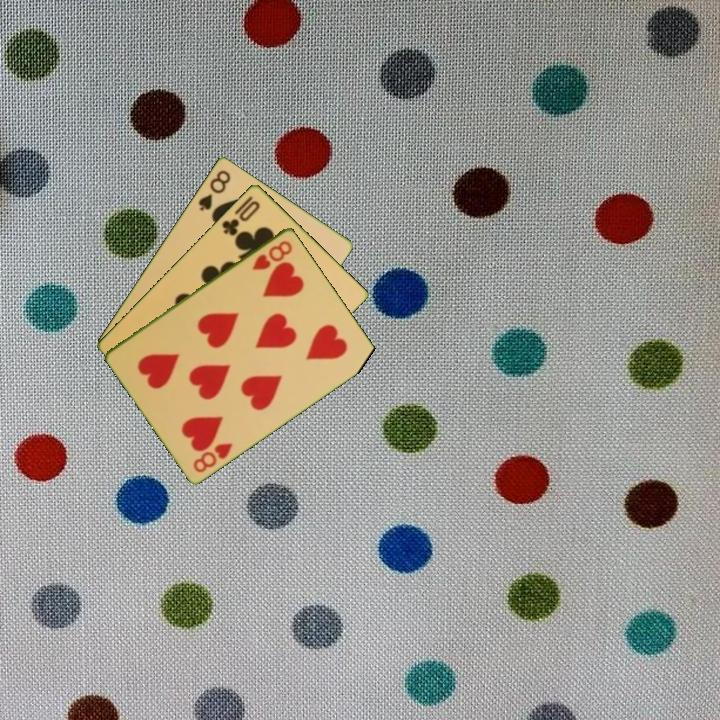10c: (218, 197, 263, 238)
8h: (248, 236, 295, 273), (189, 439, 235, 475)
8s: (195, 166, 233, 214)
